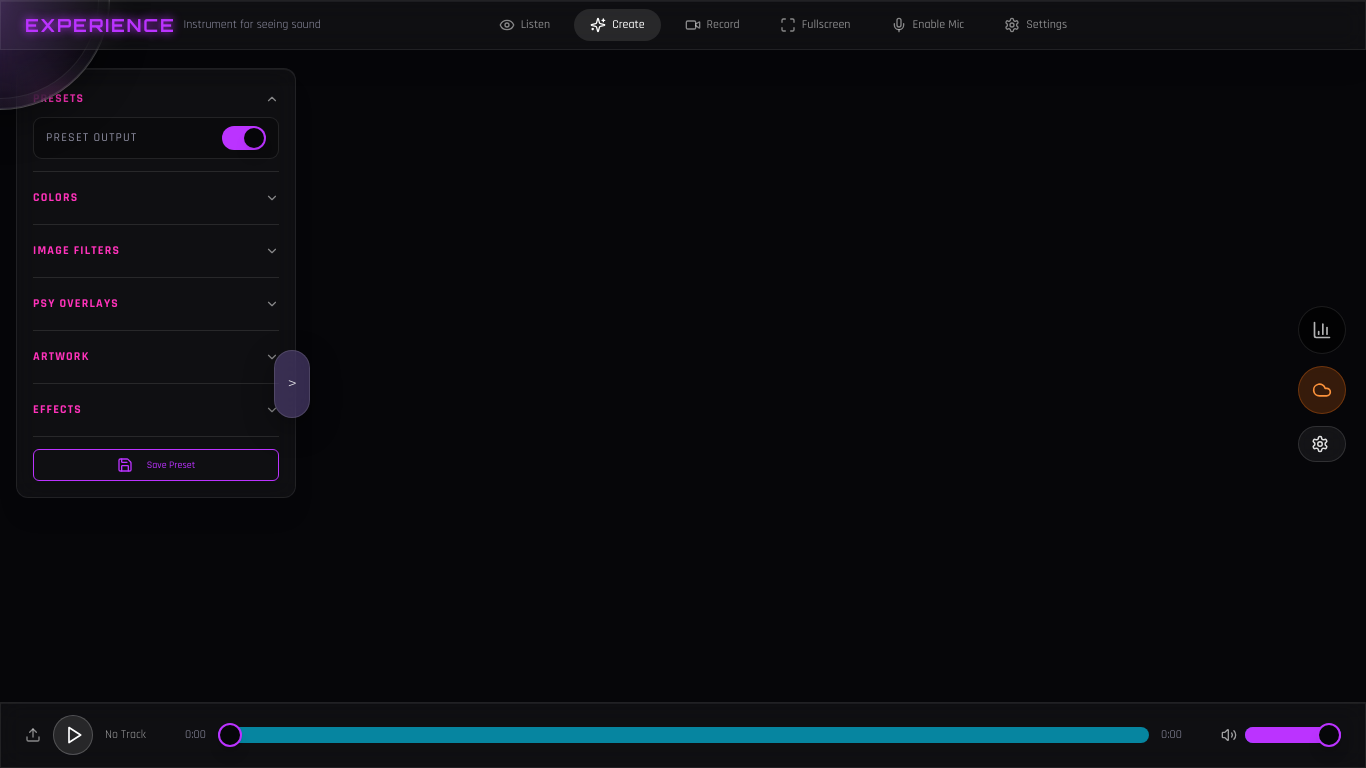
Test: UIControls › CollapsibleSection accordion › clicking section header toggles content visibility
The image size is (1366, 768).
Click the button "Effects".
click(156, 410)  # box [33,396,279,424]
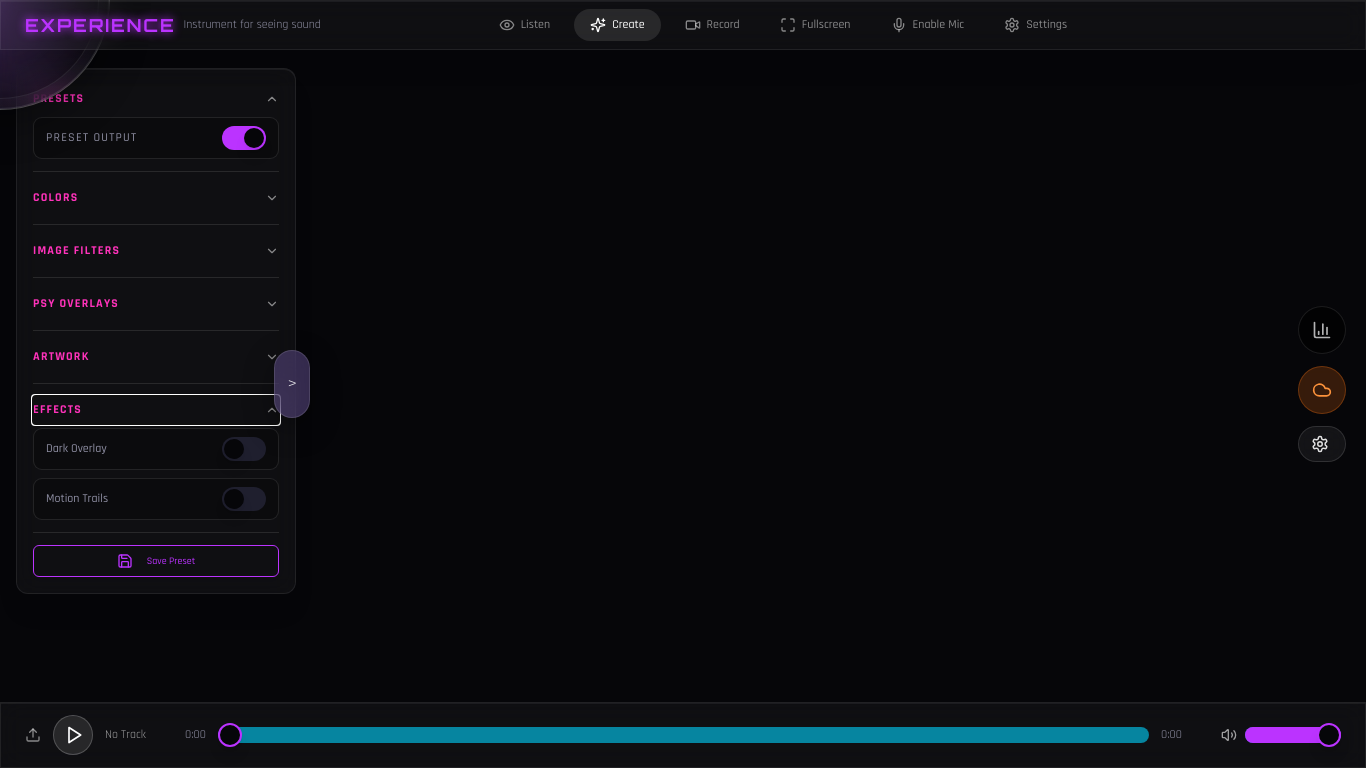
Result: the switch with test id "toggle-trails" is shown at [222,487,266,511]
Click the button "Effects".
click(156, 410)  # box [33,396,279,424]
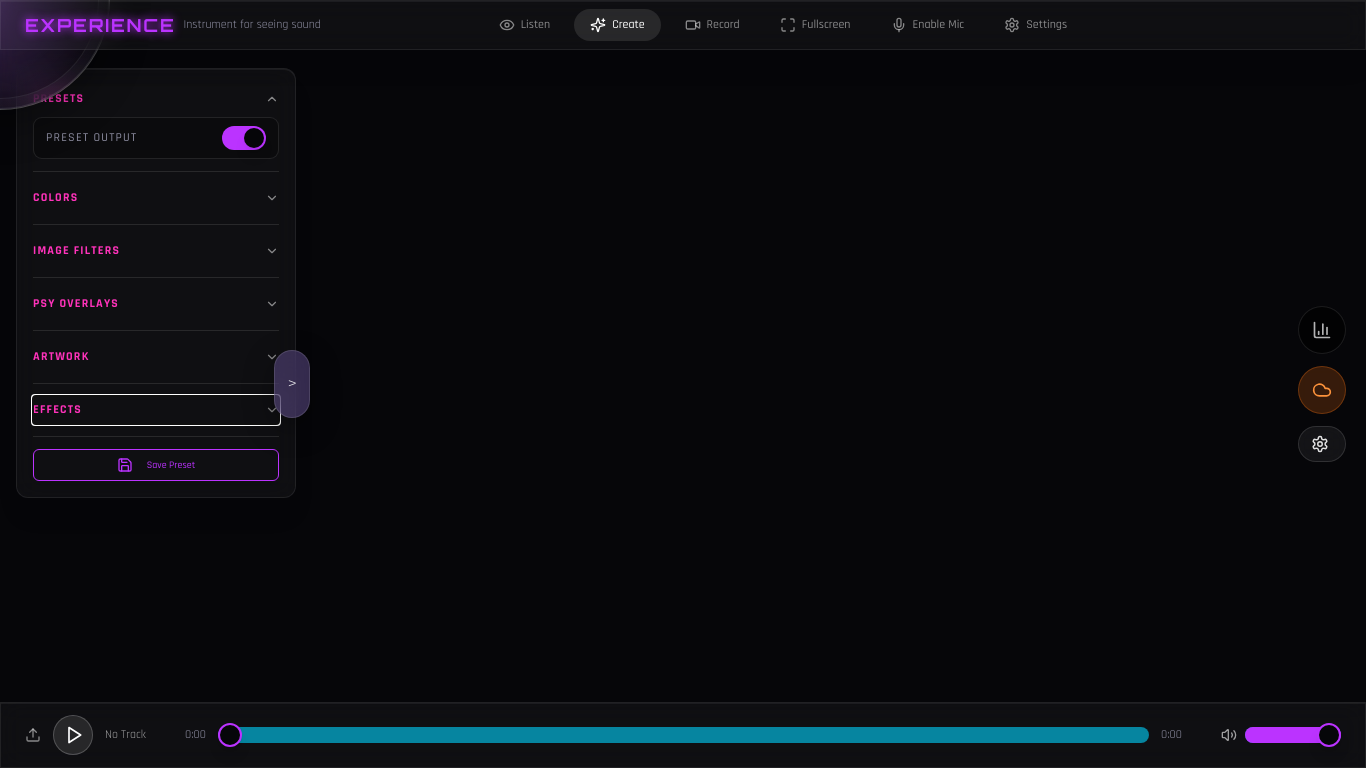
Result: the switch with test id "toggle-trails" is gone
